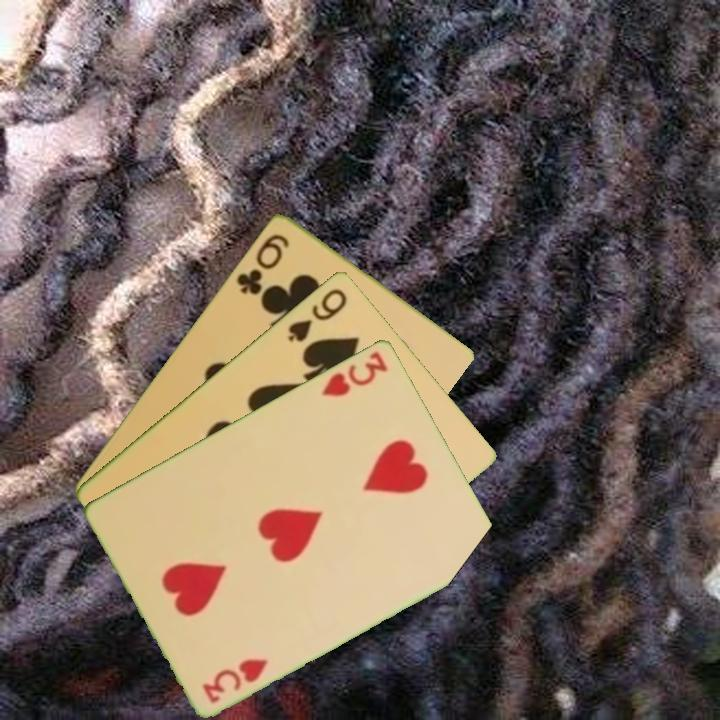3h: (198, 654, 272, 706), (318, 347, 391, 399)
6c: (233, 229, 293, 298)
9s: (284, 284, 350, 345)
